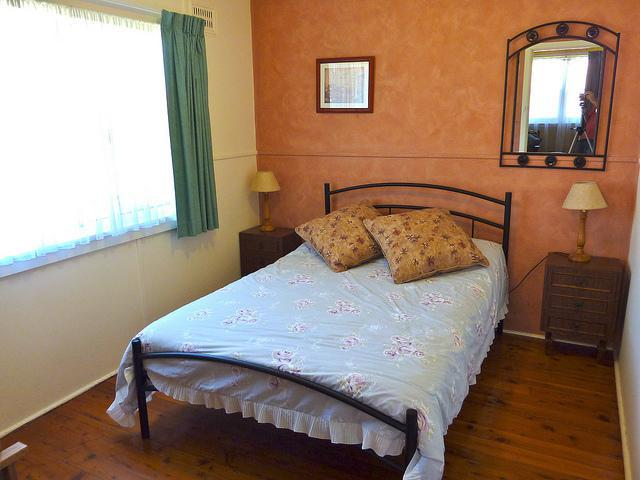hand: (578, 92, 590, 101)
